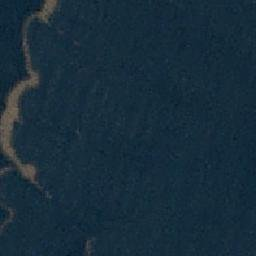debris: (1, 91, 21, 124), (20, 14, 42, 42), (39, 1, 57, 26), (24, 43, 36, 79), (1, 204, 16, 229), (1, 125, 14, 153), (13, 80, 40, 92), (19, 162, 36, 181), (36, 183, 50, 199), (6, 154, 20, 167), (82, 239, 100, 249), (1, 168, 7, 181)
